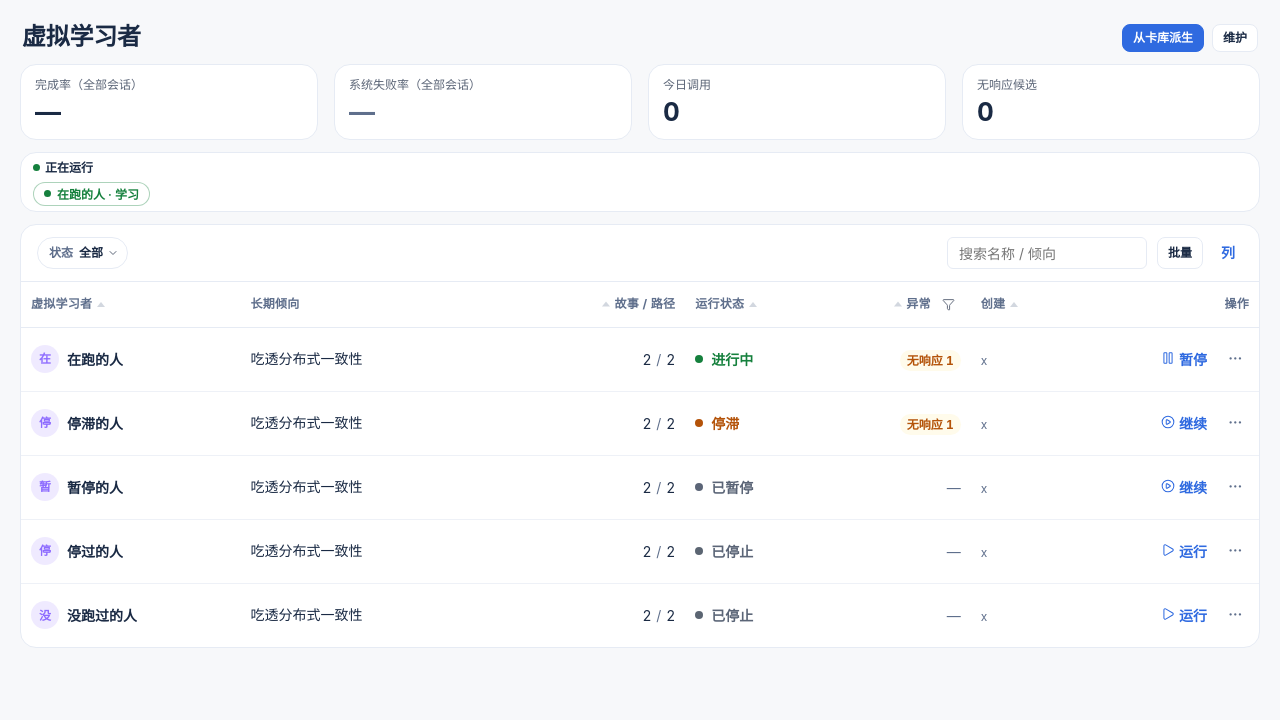
Test case: 虚拟学习者：运行状态列只回答在不在跑 › 列收敛：任务不再成列，累计运行默认隐藏但可在列菜单打开，异常列可开关
Expected: the text "累计运行" is not shown
Expected: the text "失败" is not shown
What coordinates should you click on to do the following:
click the button with class "mk-cols__trigger"
I would click on:
 (1228, 253)
Its box is [1213,237,1243,269].
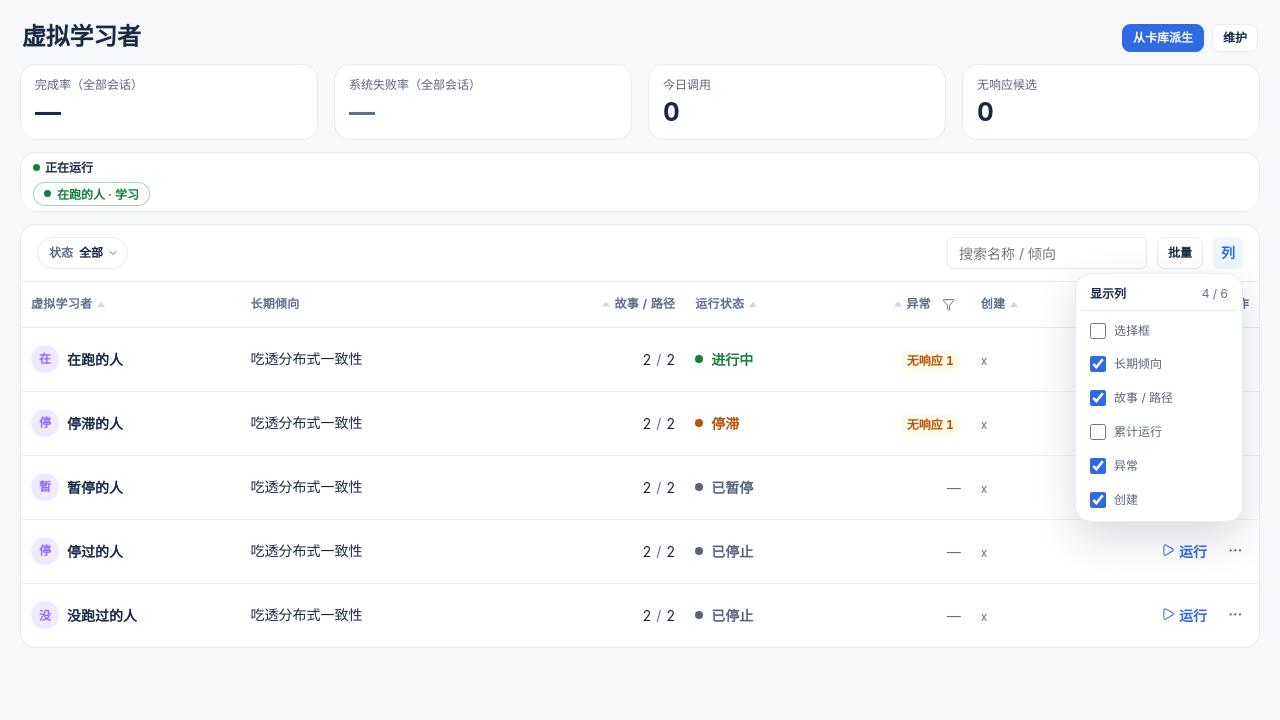
Expected: the text "失败" is not shown
Expected: the text "累计运行" is shown, [1114,422,1162,442]
